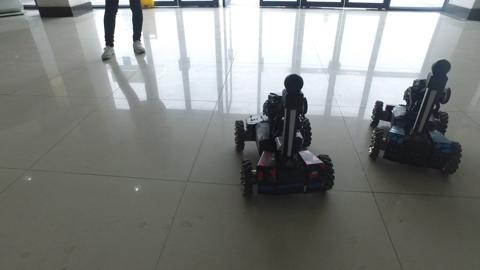chariot: (227, 71, 349, 202), (370, 55, 466, 182)
